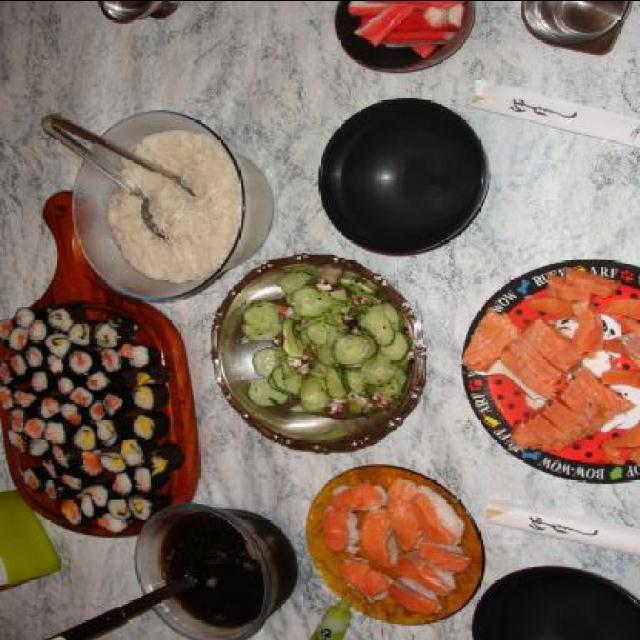Cucumber: (240, 270, 408, 412), (332, 333, 370, 367)
